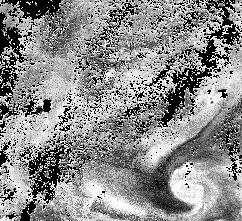CE: (168, 162, 218, 208)
